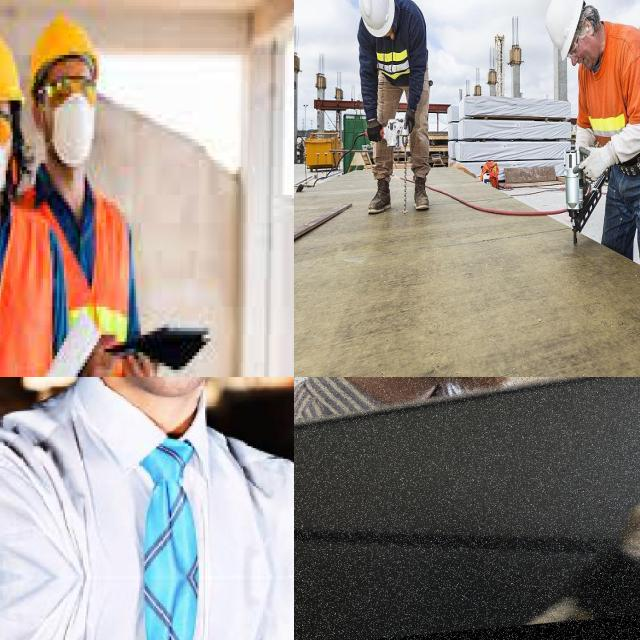boots: (365, 175, 395, 218), (409, 175, 431, 213)
face_nomask: (570, 21, 600, 72)
glasses: (564, 36, 580, 61)
hand_glove: (580, 138, 620, 191), (365, 116, 384, 148), (399, 108, 420, 134)
head_helmet: (542, 0, 587, 61), (358, 0, 393, 40)
person: (537, 0, 640, 286), (347, 0, 434, 208)
vest: (576, 68, 640, 155), (358, 26, 423, 96)
